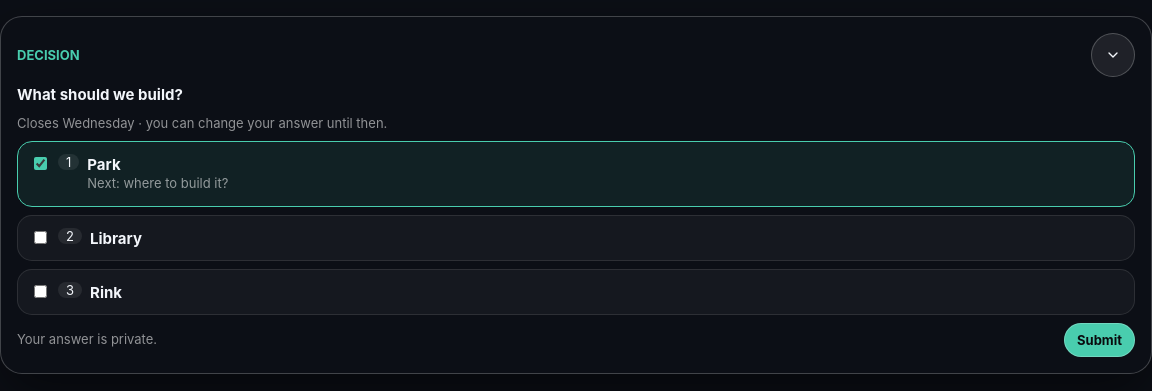
Scenario: picking and submitting › can deselect the last approval and then cannot submit
Click the checkbox labelled "Park" at coordinates (40, 164), box [34,157,47,170]
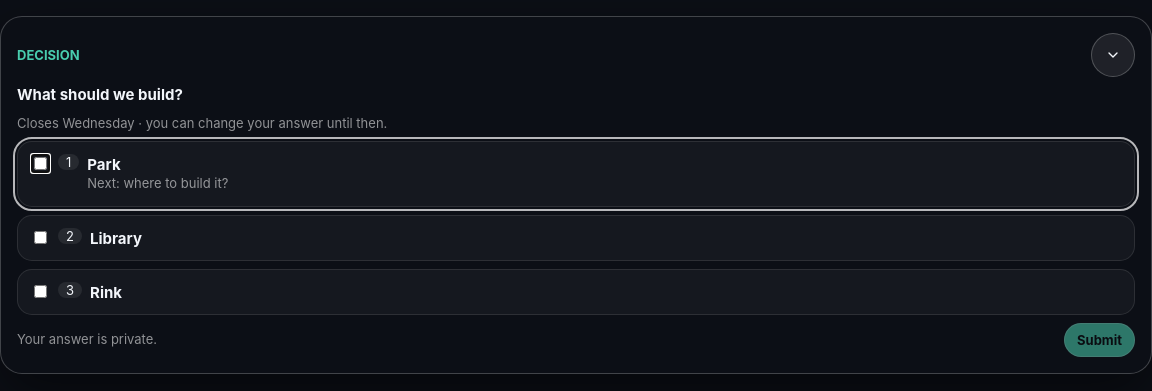
Check: the button "Submit" is disabled, box [1064,323,1135,357]
